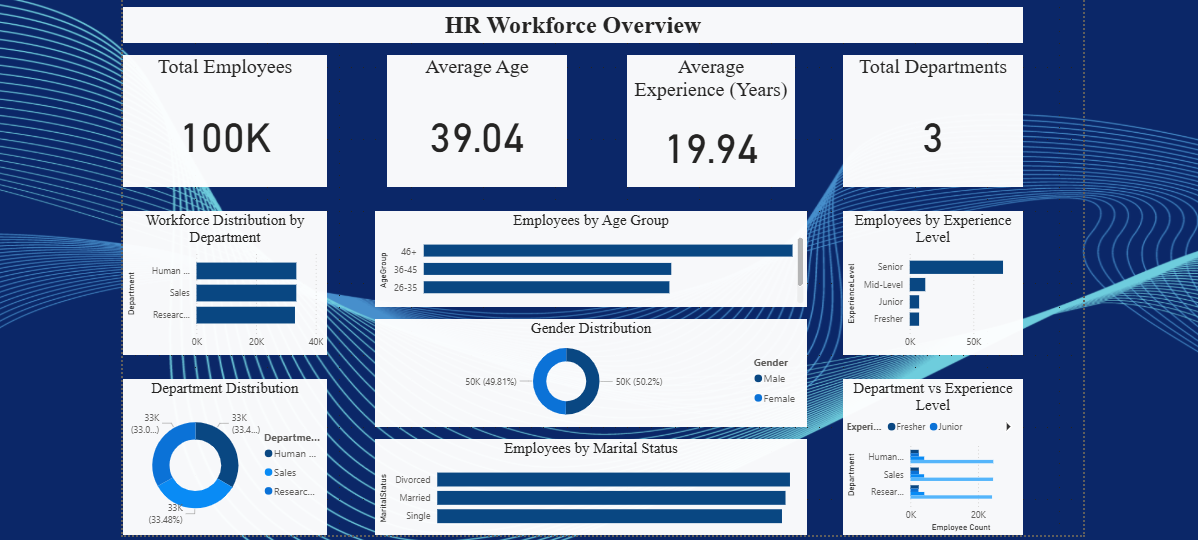

This screenshot's page, from the dashboard's own definition file:
{"tool":"powerbi","page":{"name":"Workforce Overview","canvas":[1280,720],"ordinal":1},"visuals":[{"type":"card","title":"Total Employees","fields":{"Values":["Professional_IBM_HR_Attrition_100K.Employee Count"]},"box":[0,80,272,176],"z":0},{"type":"card","title":"Average Age","fields":{"Values":["Professional_IBM_HR_Attrition_100K.Avg Age"]},"box":[352,80,240,176],"z":1000},{"type":"card","title":"Average Experience (Years)","fields":{"Values":["Professional_IBM_HR_Attrition_100K.Avg Experience"]},"box":[672,80,224,176],"z":2000},{"type":"card","title":"Total Departments","fields":{"Values":["Professional_IBM_HR_Attrition_100K.Department Count"]},"box":[960,80,240,176],"z":3000},{"type":"barChart","title":"Workforce Distribution by Department","fields":{"Category":["Professional_IBM_HR_Attrition_100K.Department"],"Y":["Professional_IBM_HR_Attrition_100K.Employee Count"]},"box":[0,288,272,192],"z":4000},{"type":"donutChart","title":"Department Distribution","fields":{"Category":["Professional_IBM_HR_Attrition_100K.Department"],"Y":["Professional_IBM_HR_Attrition_100K.Employee Count"]},"box":[0,512,272,208],"z":5000},{"type":"barChart","title":"Employees by Age Group","fields":{"Category":["Professional_IBM_HR_Attrition_100K.AgeGroup"],"Y":["Professional_IBM_HR_Attrition_100K.Employee Count"]},"box":[336,288,576,128],"z":6000},{"type":"donutChart","title":"Gender Distribution","fields":{"Category":["Professional_IBM_HR_Attrition_100K.Gender"],"Y":["Professional_IBM_HR_Attrition_100K.Employee Count"]},"box":[336,432,576,144],"z":7000},{"type":"barChart","title":"Employees by Marital Status","fields":{"Category":["Professional_IBM_HR_Attrition_100K.MaritalStatus"],"Y":["Professional_IBM_HR_Attrition_100K.Employee Count"]},"box":[336,592,576,128],"z":8000},{"type":"barChart","title":"Employees by Experience Level","fields":{"Category":["Professional_IBM_HR_Attrition_100K.ExperienceLevel"],"Y":["Professional_IBM_HR_Attrition_100K.Employee Count"]},"box":[960,288,240,192],"z":9000},{"type":"clusteredBarChart","title":"Department vs Experience Level","fields":{"Category":["Professional_IBM_HR_Attrition_100K.Department"],"Series":["Professional_IBM_HR_Attrition_100K.ExperienceLevel"],"Y":["Professional_IBM_HR_Attrition_100K.Employee Count"]},"box":[960,512,240,208],"z":10000},{"type":"textbox","box":[0,16,1200,48],"z":10001}]}

Visuals, with their boxes in screenshot pixels (x1, y1, x2, y2):
"Total Employees" card: left=131, top=53, right=332, bottom=183
"Average Age" card: left=391, top=53, right=569, bottom=183
"Average Experience (Years)" card: left=628, top=53, right=793, bottom=183
"Total Departments" card: left=841, top=53, right=1018, bottom=183
"Workforce Distribution by Department" barChart: left=131, top=207, right=332, bottom=349
"Department Distribution" donutChart: left=131, top=372, right=332, bottom=526
"Employees by Age Group" barChart: left=379, top=207, right=805, bottom=301
"Gender Distribution" donutChart: left=379, top=313, right=805, bottom=420
"Employees by Marital Status" barChart: left=379, top=431, right=805, bottom=526
"Employees by Experience Level" barChart: left=841, top=207, right=1018, bottom=349
"Department vs Experience Level" clusteredBarChart: left=841, top=372, right=1018, bottom=526
textbox: left=131, top=6, right=1018, bottom=41
